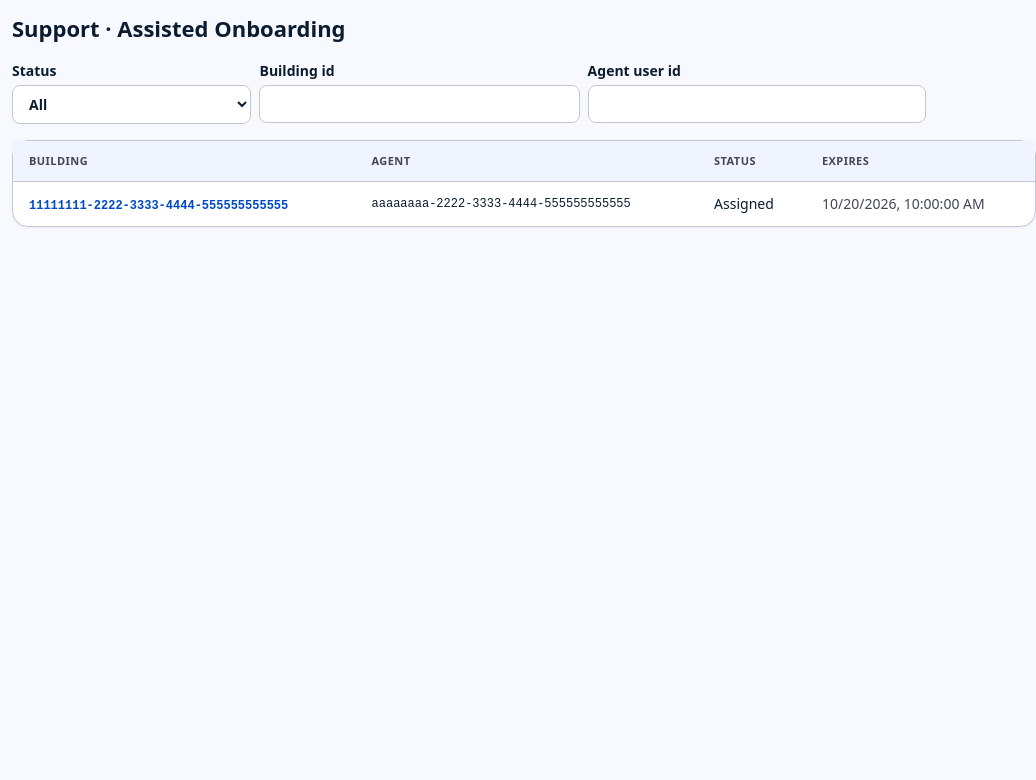
OnboardingSessionsScreen › hides the assign control from agents and shows only their transitions
Click the button "11111111-2222-3333-4444-555555555555" at (159, 206), box left=29, top=198, right=288, bottom=214
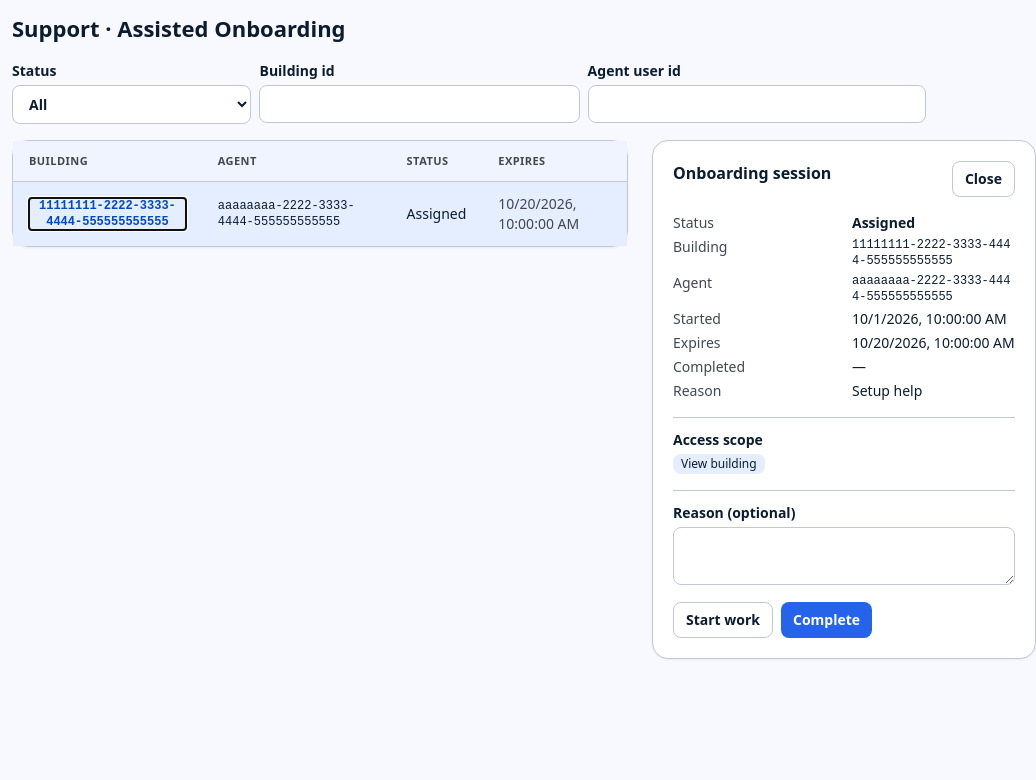
Result: the button "Start work" is shown at left=673, top=602, right=773, bottom=638
Result: the button "Complete" is shown at left=781, top=602, right=872, bottom=638
